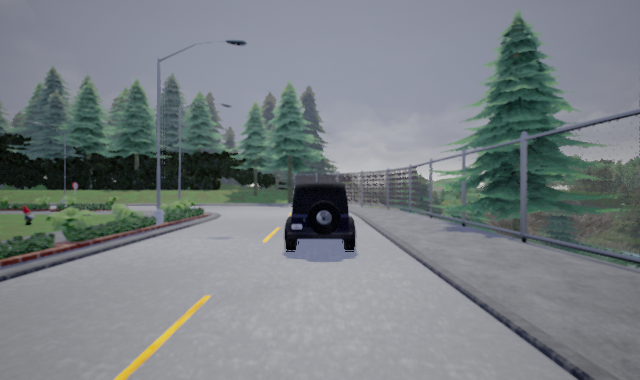vehicle: (280, 180, 358, 253)
